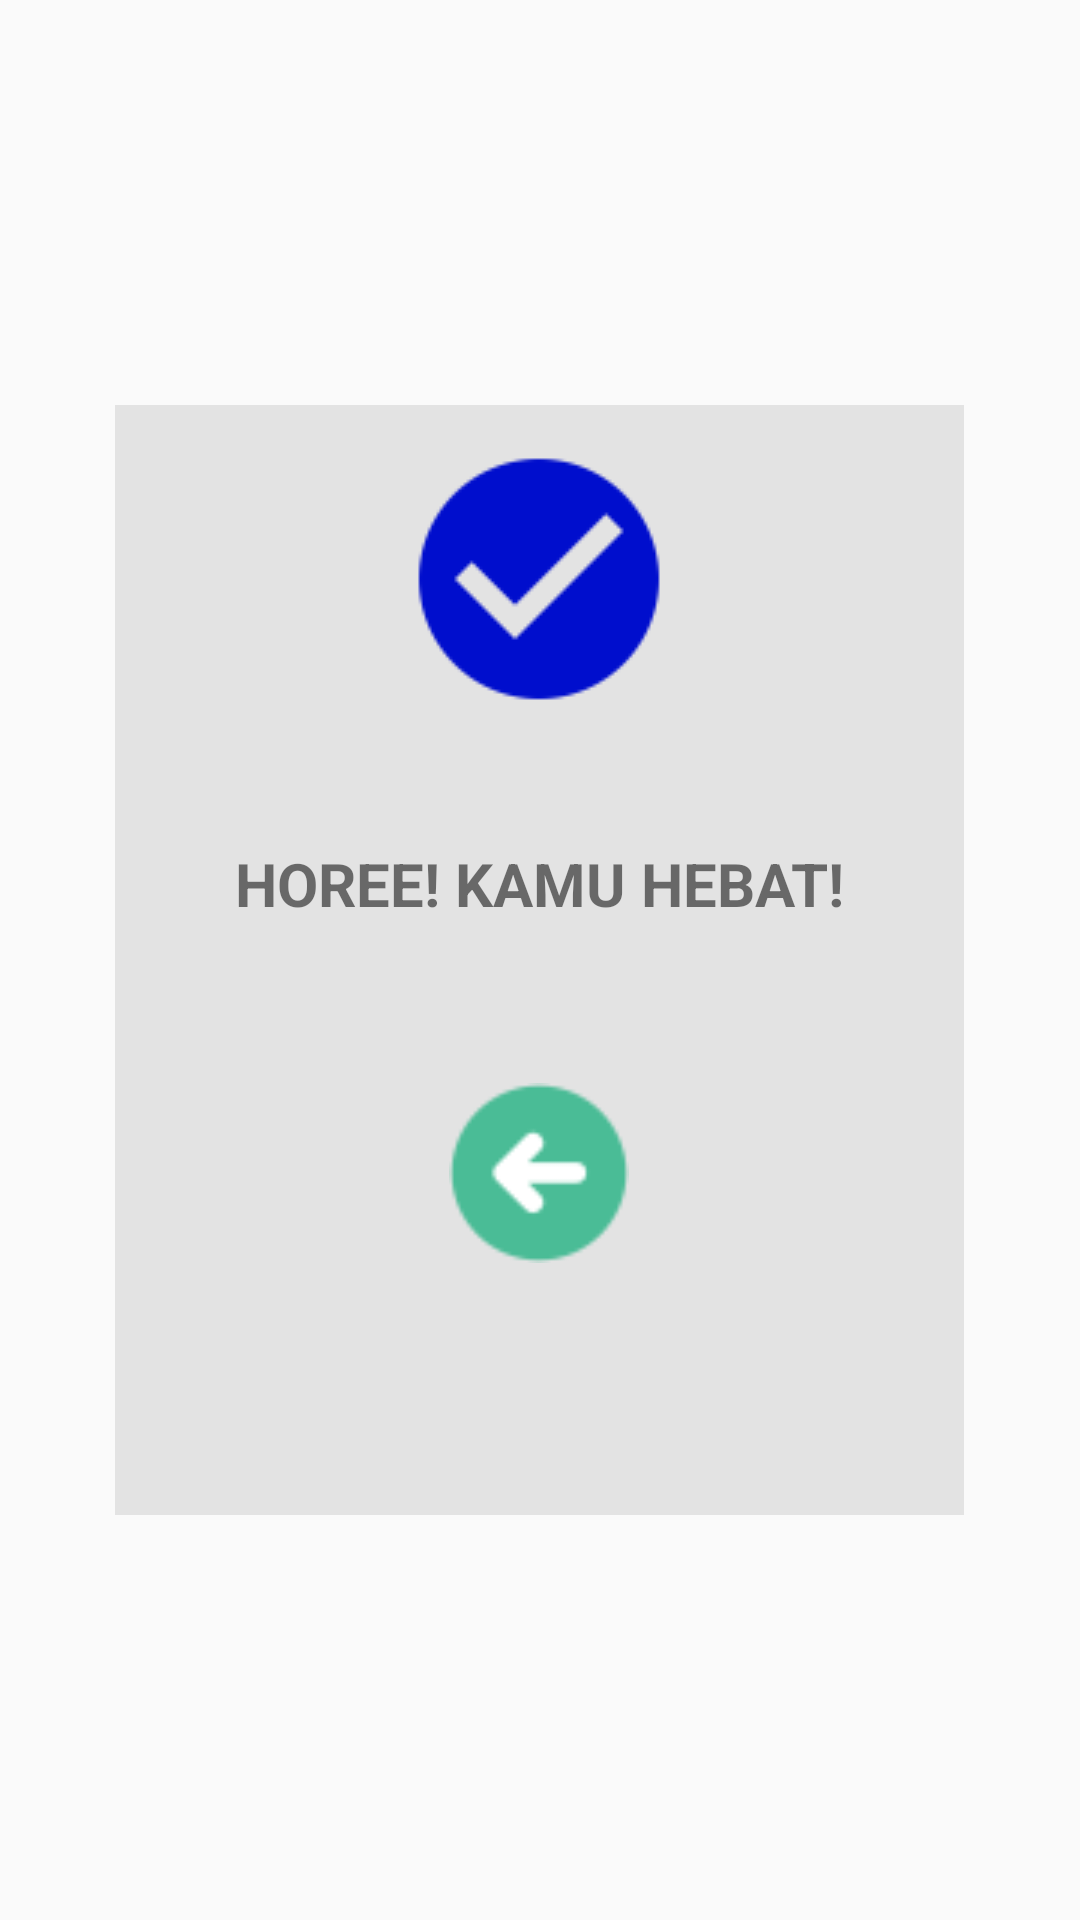

Point at icon controls on the screen. Image size 1080 × 1920, points as point (x, y).
backarrow: point (539, 1173)
correct: point (539, 579)
